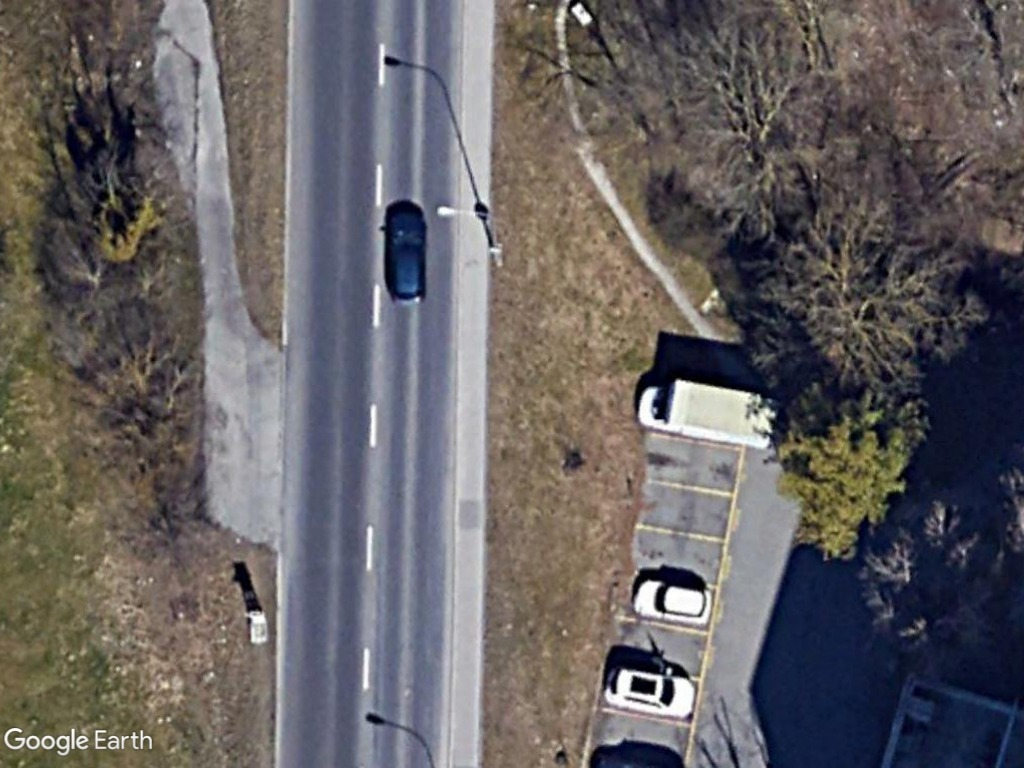car: (600, 666, 698, 723), (382, 209, 427, 306), (629, 577, 715, 626)
truck: (633, 376, 775, 453)
